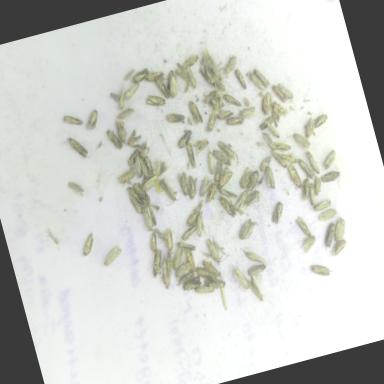pbw: (158, 175, 183, 207), (230, 260, 252, 294), (68, 134, 92, 164), (146, 248, 168, 278), (319, 221, 341, 251), (216, 192, 238, 221), (162, 249, 182, 278), (248, 66, 268, 94), (310, 260, 338, 280), (155, 260, 173, 291), (168, 246, 190, 271), (138, 202, 155, 234), (131, 180, 151, 207), (286, 161, 304, 191), (154, 74, 173, 102), (242, 170, 264, 194), (236, 218, 260, 240), (101, 245, 125, 267), (231, 190, 253, 214), (247, 275, 265, 304), (202, 256, 222, 282), (330, 216, 350, 242), (184, 174, 203, 201), (241, 188, 264, 210), (216, 138, 238, 161), (243, 246, 266, 268), (183, 205, 205, 228), (213, 166, 236, 188), (212, 146, 233, 170), (174, 170, 192, 198), (201, 109, 221, 134), (259, 90, 278, 116), (296, 174, 314, 201), (175, 128, 197, 150), (148, 158, 172, 178), (78, 232, 98, 256), (207, 55, 224, 83), (298, 156, 316, 182), (268, 201, 287, 225), (236, 166, 255, 190), (106, 127, 124, 152), (306, 148, 322, 176), (114, 118, 130, 146), (222, 88, 242, 110), (116, 168, 138, 188), (196, 175, 216, 197), (202, 182, 222, 204), (292, 130, 312, 152), (210, 160, 228, 184), (188, 99, 204, 126), (301, 116, 319, 140), (294, 214, 312, 238), (270, 147, 288, 171), (195, 264, 216, 284), (179, 222, 200, 242), (144, 91, 166, 110), (83, 109, 102, 131), (192, 212, 208, 238), (271, 82, 289, 105), (201, 65, 218, 89), (180, 275, 204, 292), (320, 150, 340, 170), (128, 192, 144, 217), (278, 148, 298, 168), (329, 238, 350, 257), (172, 260, 194, 278), (139, 174, 161, 192), (184, 142, 198, 170), (262, 129, 278, 153), (262, 166, 278, 190), (300, 234, 319, 254), (271, 100, 289, 121), (183, 247, 197, 274), (222, 54, 240, 75), (218, 184, 239, 202), (201, 48, 214, 77), (146, 228, 161, 253), (162, 227, 177, 252), (237, 104, 259, 121), (63, 112, 85, 129), (130, 68, 152, 85), (166, 75, 182, 98), (256, 154, 276, 172), (191, 138, 211, 156), (155, 225, 172, 246), (176, 268, 198, 284), (144, 68, 166, 84), (317, 207, 340, 222), (125, 148, 143, 167), (124, 82, 143, 100), (257, 114, 277, 131), (234, 68, 248, 92), (278, 82, 294, 103), (310, 175, 325, 197), (246, 263, 268, 278), (265, 118, 280, 140), (306, 182, 319, 207), (116, 87, 130, 110), (68, 178, 84, 198), (163, 70, 179, 90), (216, 106, 236, 122), (166, 110, 186, 126), (175, 66, 191, 86), (177, 238, 197, 254), (225, 114, 246, 129), (138, 155, 151, 179), (268, 101, 282, 123), (212, 72, 226, 94), (194, 282, 214, 297), (206, 152, 219, 175), (312, 198, 333, 212), (186, 66, 198, 90), (274, 138, 292, 154), (312, 113, 330, 129), (132, 155, 144, 179), (137, 140, 152, 159), (116, 107, 136, 121), (147, 202, 158, 227), (144, 155, 156, 177), (182, 54, 200, 68), (209, 280, 227, 292), (122, 69, 138, 81)
